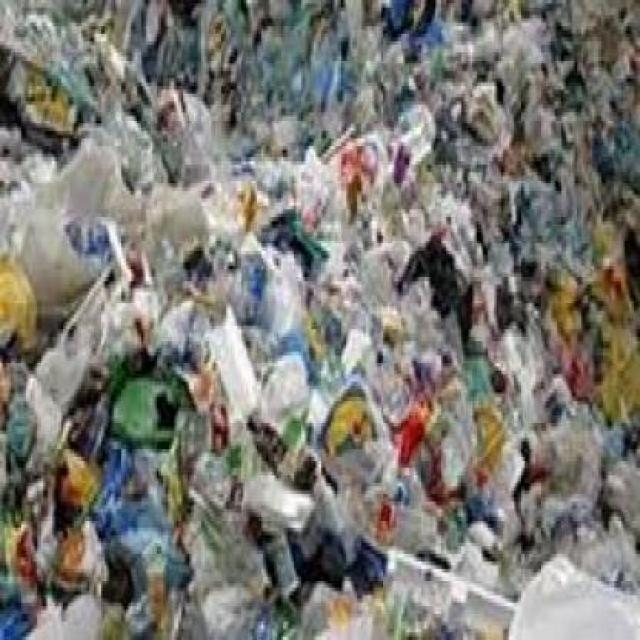garbage: (10, 8, 613, 577)
